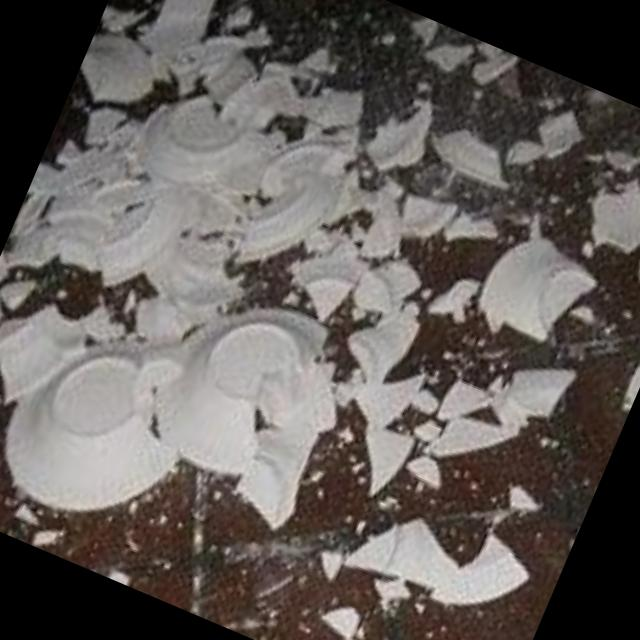PecahanKaca: (0, 0, 640, 640), (125, 271, 372, 537)
